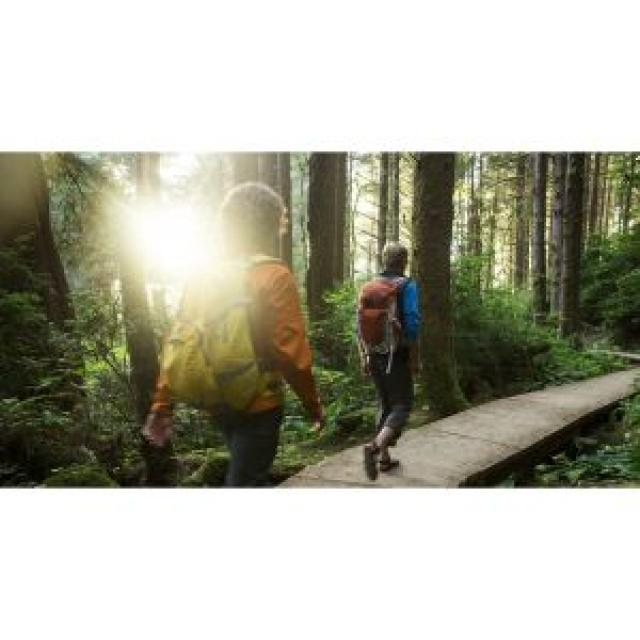nonfall: (140, 190, 325, 476), (345, 239, 458, 483)
